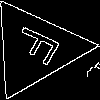F: (10, 23, 71, 72)
